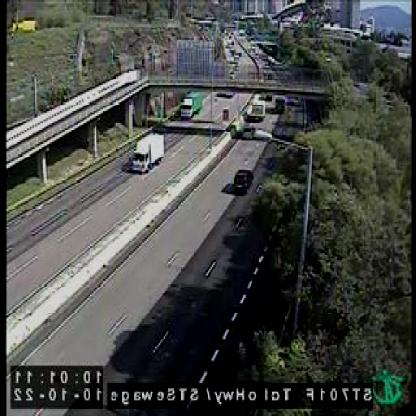Car: (234, 170, 251, 194)
Truck: (131, 128, 169, 172), (180, 91, 203, 118), (251, 99, 266, 123), (273, 96, 286, 114)
